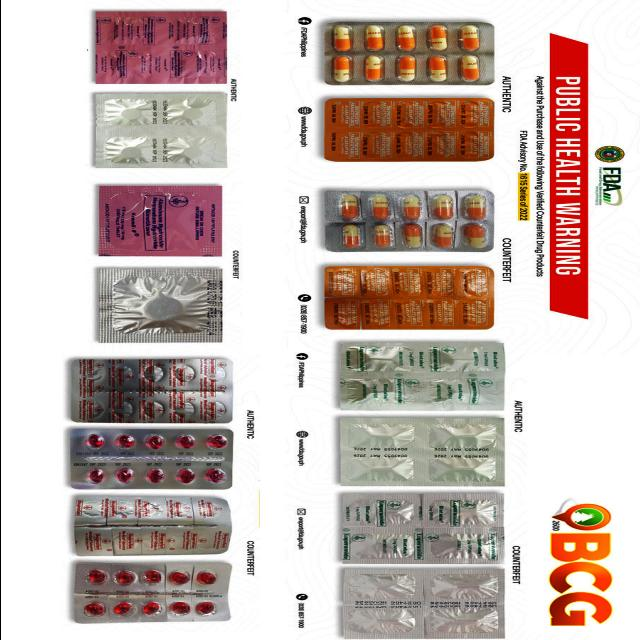authentic: (78, 12, 234, 170), (332, 418, 506, 486), (337, 341, 509, 409), (326, 20, 500, 86), (323, 97, 498, 161), (71, 358, 233, 425), (70, 426, 236, 488)
counterfeit: (338, 488, 506, 565), (317, 188, 493, 252), (334, 571, 502, 636), (322, 270, 498, 331), (72, 564, 235, 624), (98, 266, 224, 343), (96, 184, 225, 258), (72, 494, 230, 554)
